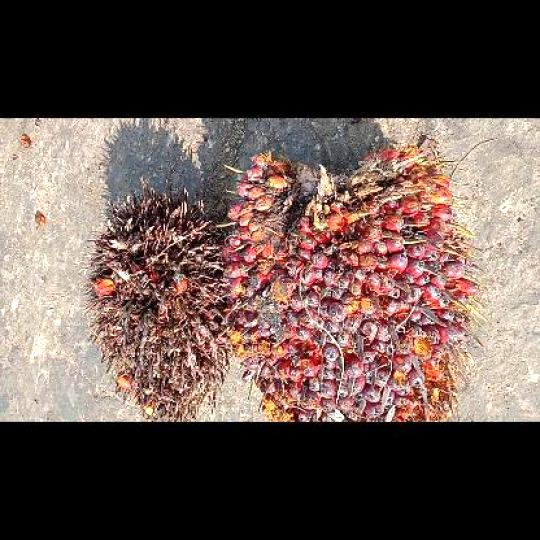masak: (219, 147, 487, 419)
terlalu masak: (82, 179, 232, 421)
